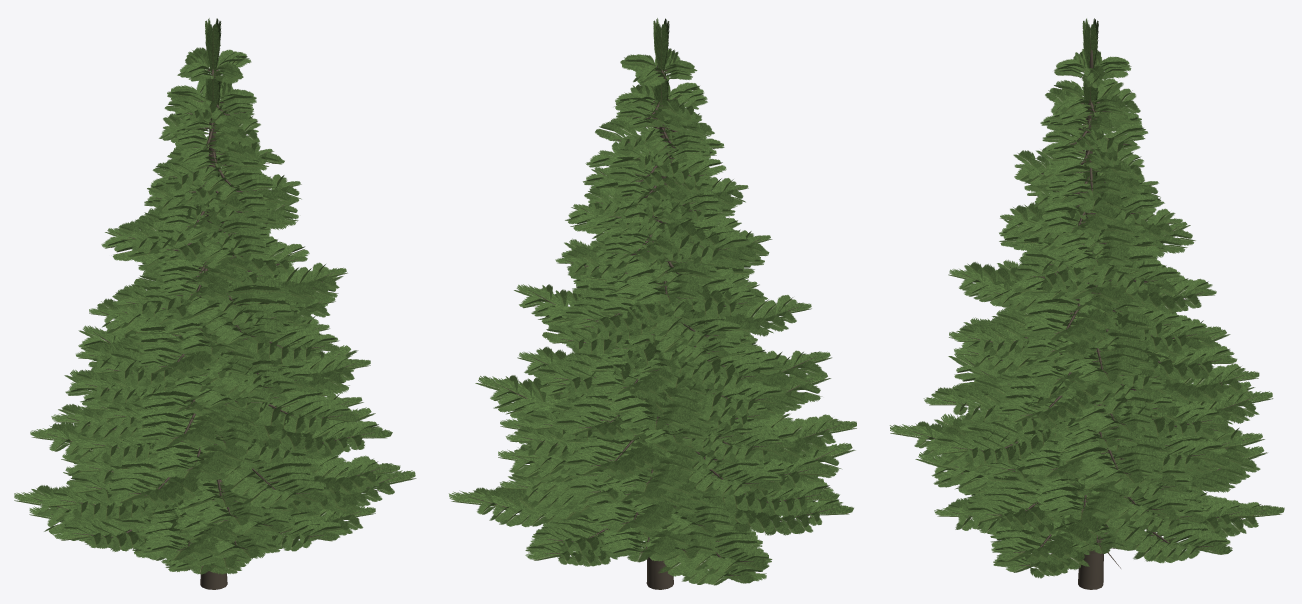
The model's file is structured-spruces.glb.
The picture shows the model from 3 angles, left to right: view 1: azimuth 30°, elevation 25°; view 2: azimuth 150°, elevation 25°; view 3: azimuth 270°, elevation 25°; orthographic projection.
Parts seen in each view (by area): view 1: Spruce2Needles, Spruce0Needles, Spruce1Needles, Spruce2Wood, Spruce0Wood; view 2: Spruce2Needles, Spruce0Needles, Spruce1Needles, Spruce2Wood, Spruce0Wood; view 3: Spruce2Needles, Spruce0Needles, Spruce1Needles, Spruce2Wood, Spruce1Wood, Spruce0Wood.
Boxes of the visible parts, x1,y1,x2,y2 form: Spruce2Needles: (30,18,416,558); Spruce0Needles: (14,73,375,564); Spruce1Needles: (29,156,375,574); Spruce2Wood: (47,25,396,589); Spruce0Wood: (32,119,358,589); Spruce2Needles: (448,18,856,562); Spruce0Needles: (500,73,855,576); Spruce1Needles: (513,165,787,585); Spruce2Wood: (470,65,839,589); Spruce0Wood: (515,92,836,589); Spruce2Needles: (889,18,1273,566); Spruce0Needles: (934,74,1284,553); Spruce1Needles: (933,157,1258,578); Spruce2Wood: (909,43,1256,589); Spruce1Wood: (955,250,1241,589); Spruce0Wood: (951,118,1265,553).
Size of the model in its own units: 6.14 by 9.64 by 6.16.
Materials: 2 (1 with a texture image).
